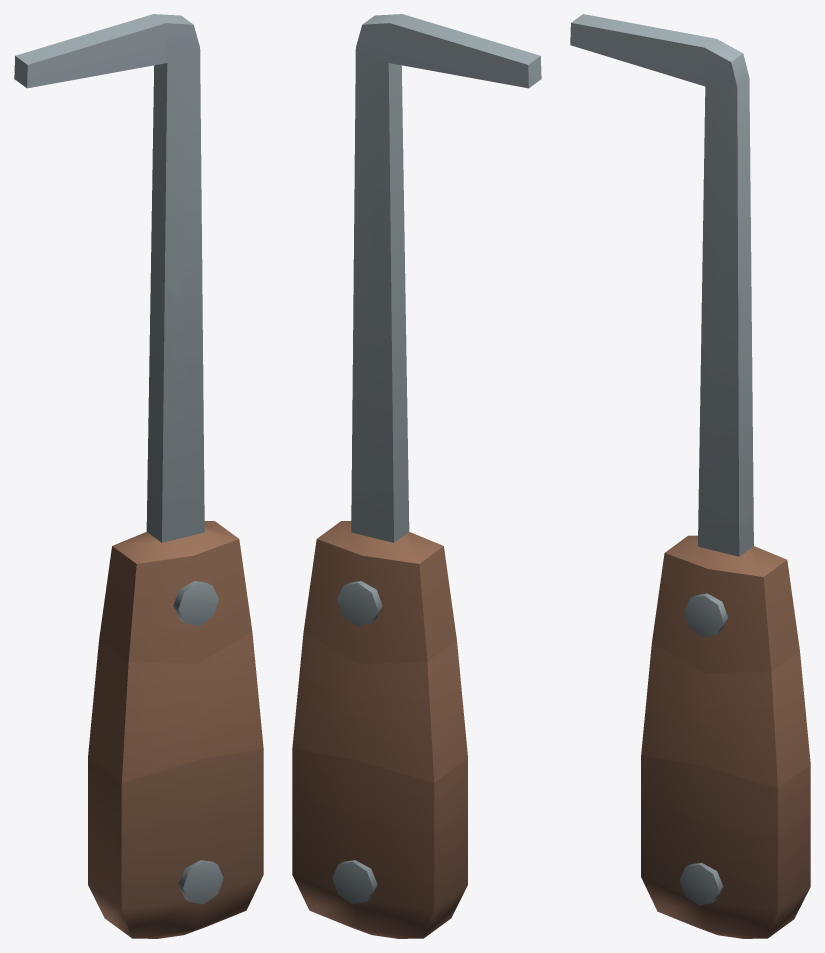
File: lockpick_d.glb
3 views of the same model, side by side, from view 1: azimuth 30°, elevation 25°; view 2: azimuth 150°, elevation 25°; view 3: azimuth 330°, elevation 25° (orthographic). The views are drawn at different scales.
Visible parts, largest first — view 1: lockpick_D; view 2: lockpick_D; view 3: lockpick_D.
Part boxes in pixels (x1,y1,x2,y2): lockpick_D: (14,14,263,938); lockpick_D: (292,14,541,938); lockpick_D: (570,14,810,938).
Bounding box in the file's own units: 0.241 × 0.9347 × 0.1093.
Materials: 1 (1 with a texture image).
